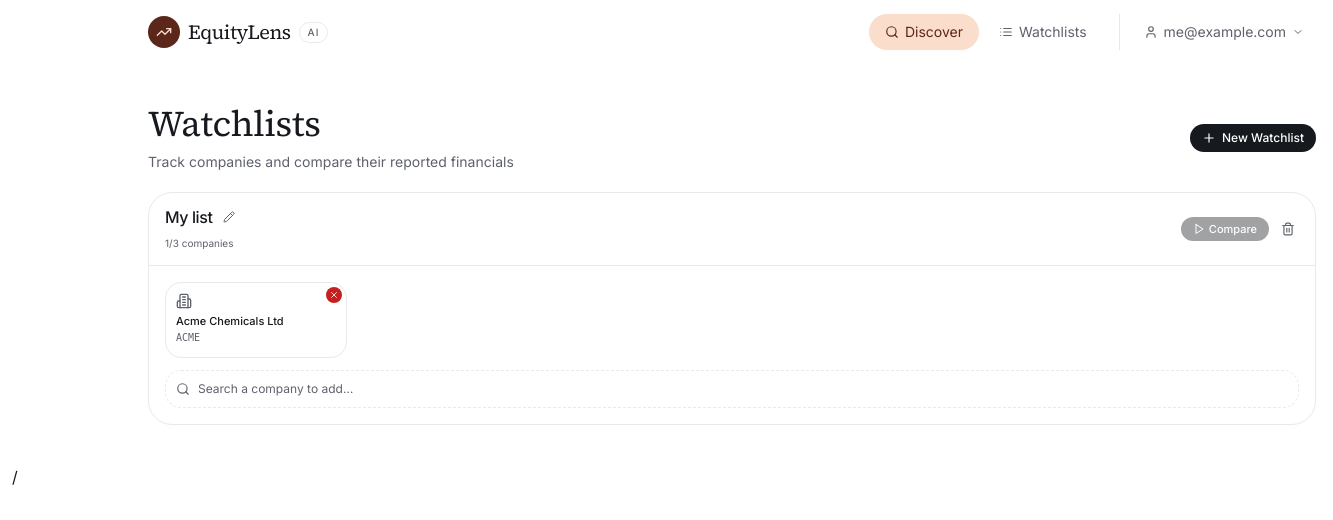
WatchlistsPage › removes a company (DELETE) and renames a watchlist (PATCH)
This screenshot has width=1333, height=520.
Click the button named "Remove Acme Chemicals Ltd": coordinates (334, 295) x1=326 y1=287 x2=342 y2=303
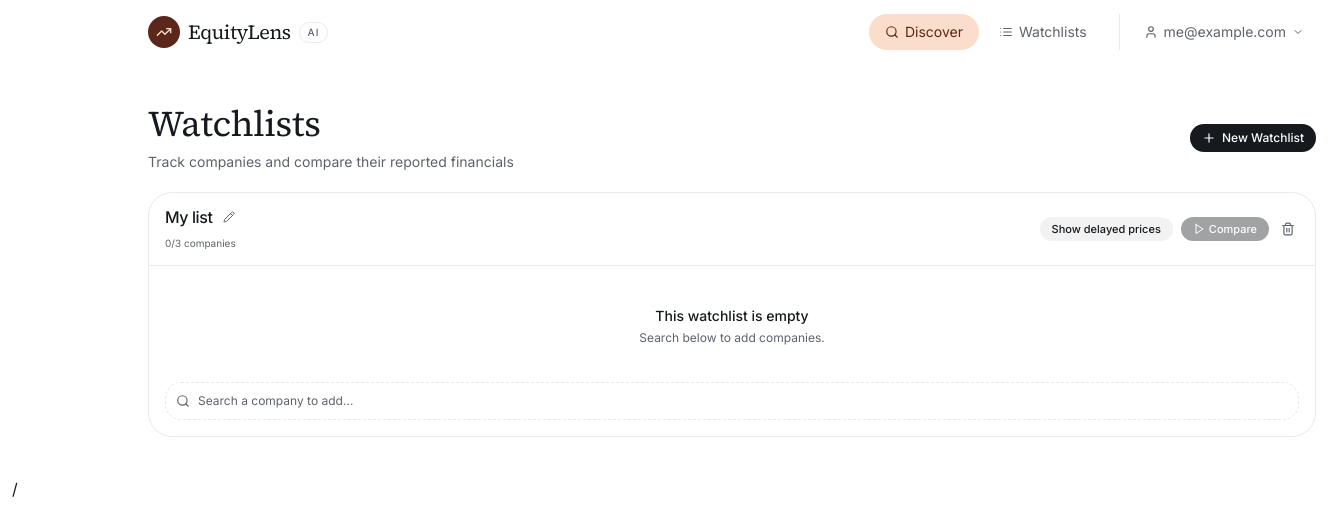
Expected: the text "This watchlist is empty" is shown, x1=655 y1=307 x2=809 y2=324
Click the button named "Rename My list": coordinates (228, 217) x1=218 y1=207 x2=238 y2=227
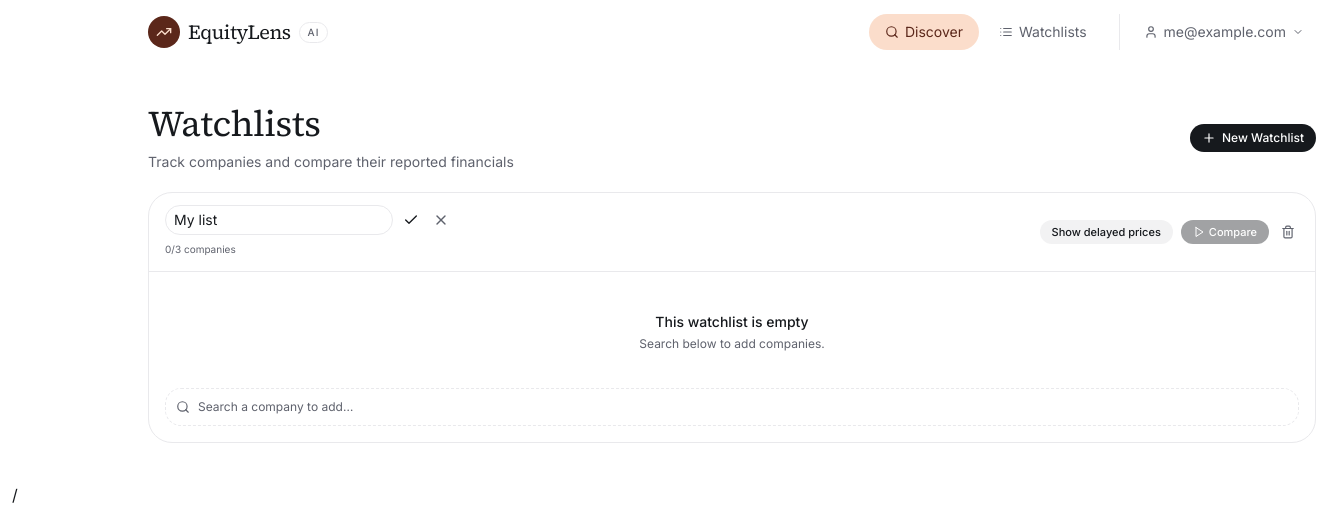
Replace the text in the field named "Watchlist name" with "Renamed": coordinates (279, 220) x1=165 y1=205 x2=393 y2=235
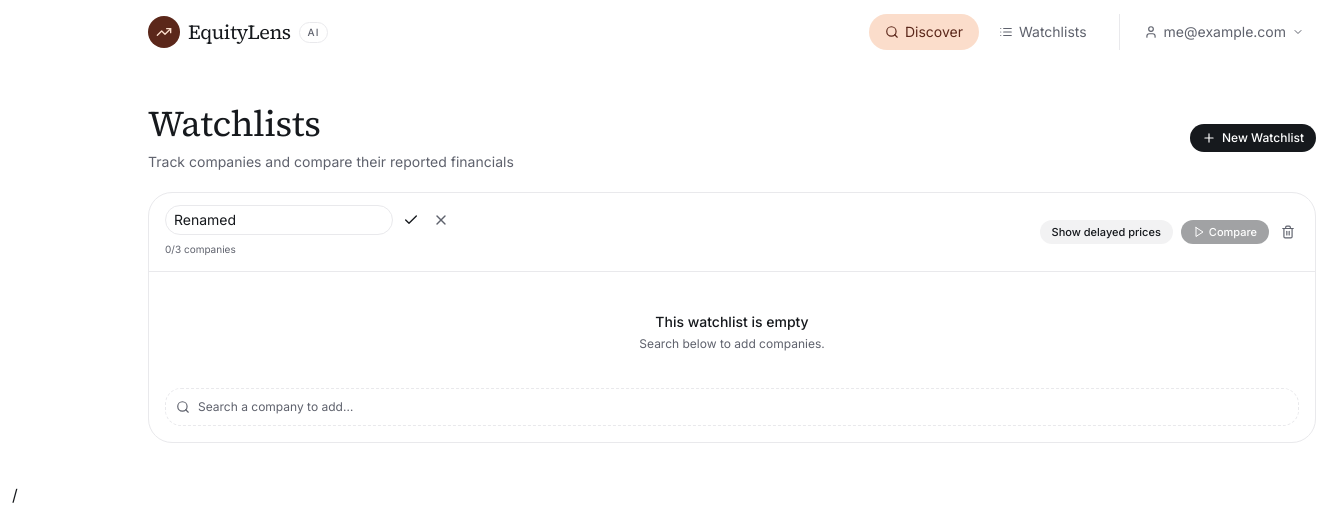
Click the button named "Save name": coordinates (411, 220) x1=399 y1=208 x2=423 y2=232
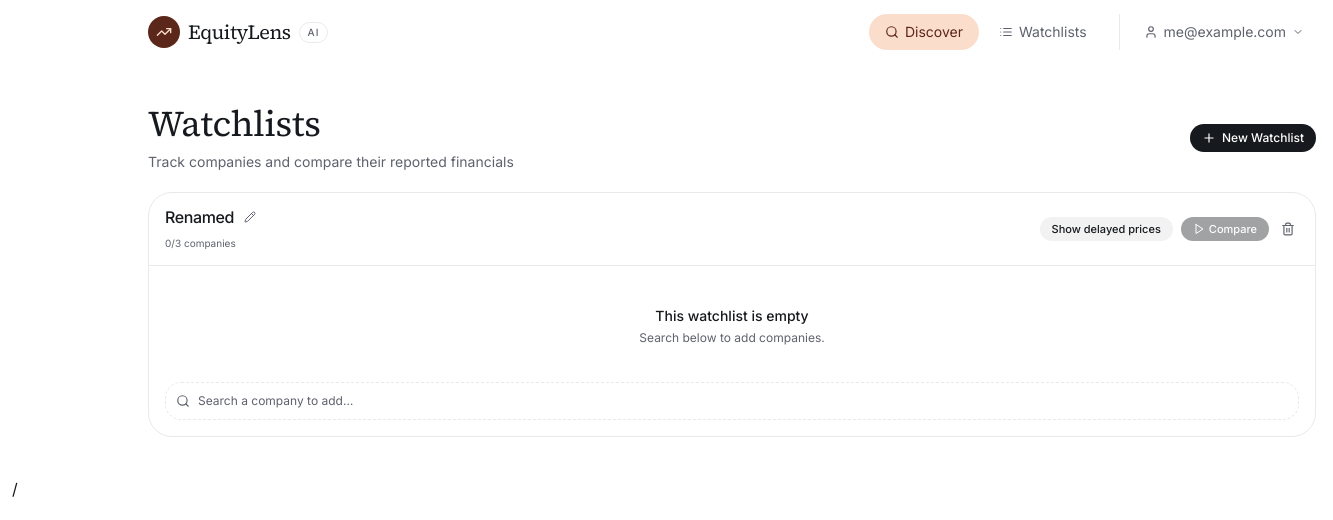
Expected: the heading "Renamed" is shown, x1=165 y1=205 x2=234 y2=229
